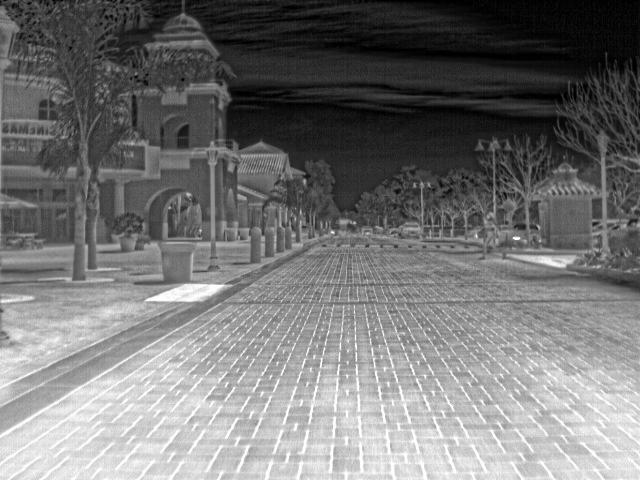car: (398, 220, 424, 240), (607, 218, 629, 232), (468, 225, 483, 239), (359, 223, 374, 237), (590, 220, 603, 236), (513, 222, 528, 234), (530, 222, 542, 234)
person: (484, 211, 503, 258)
